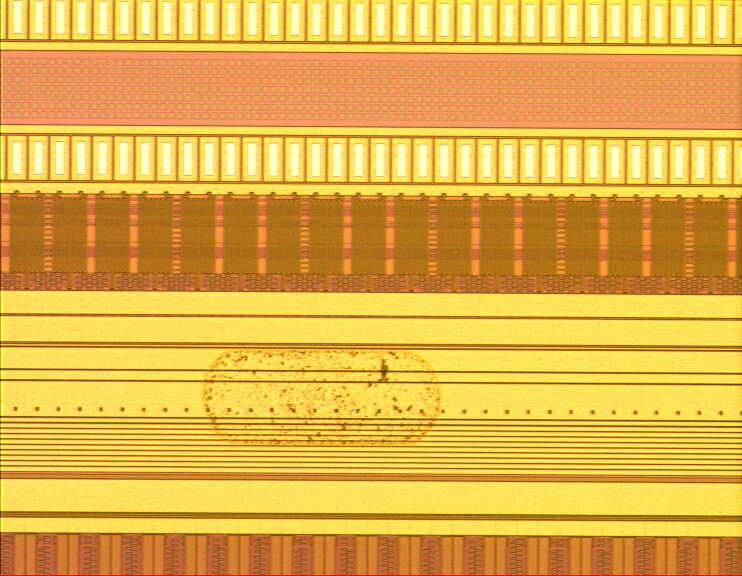PO CONTAMINATION: (202, 349, 447, 451)
